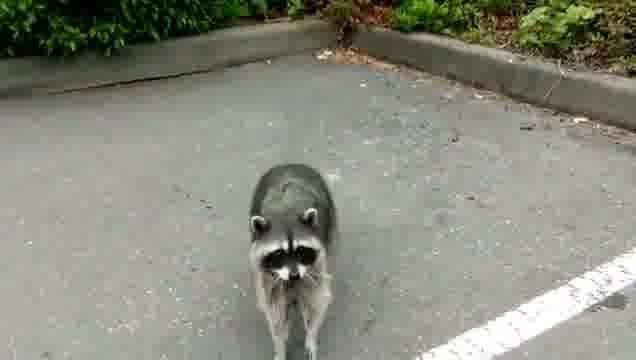raccoon: (246, 160, 342, 360)
